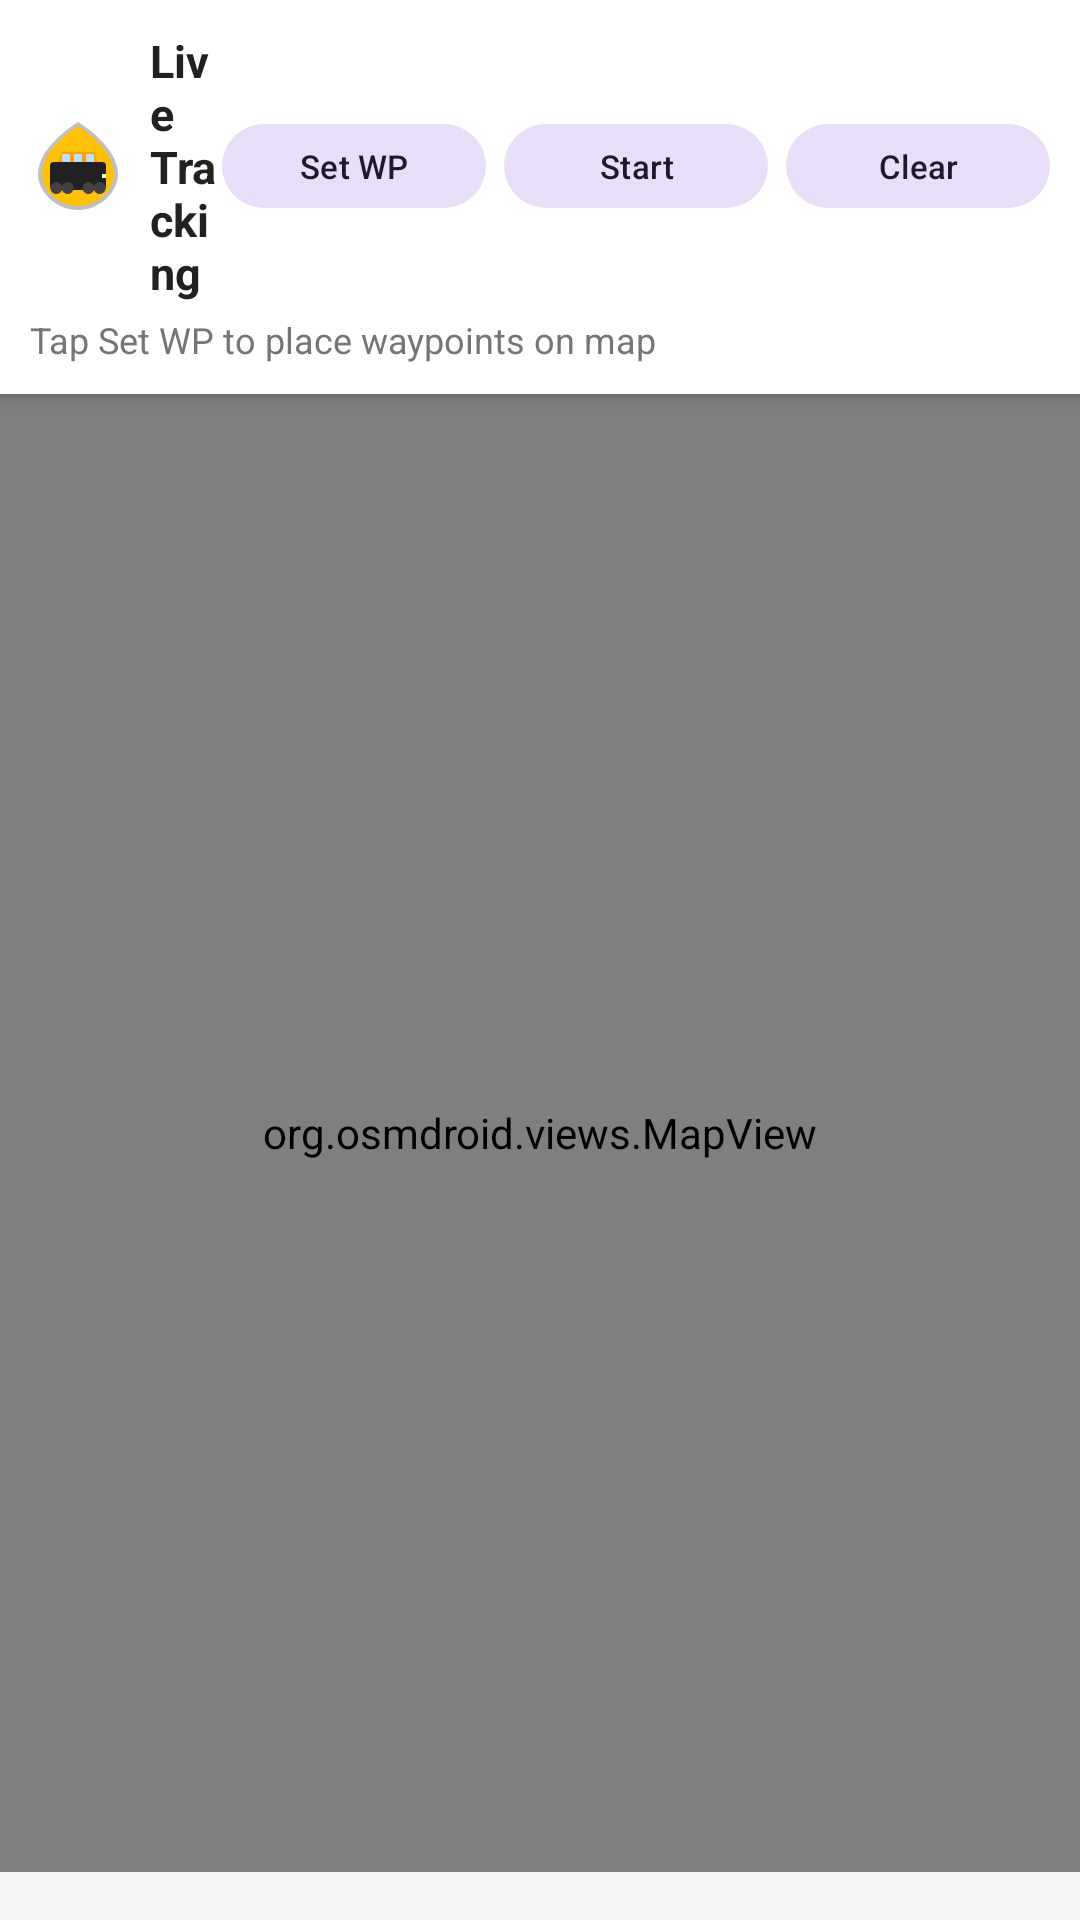

Icon click points for this 1080x1920 phone screenshot, format (x,y):
Matatu: (78,166)
